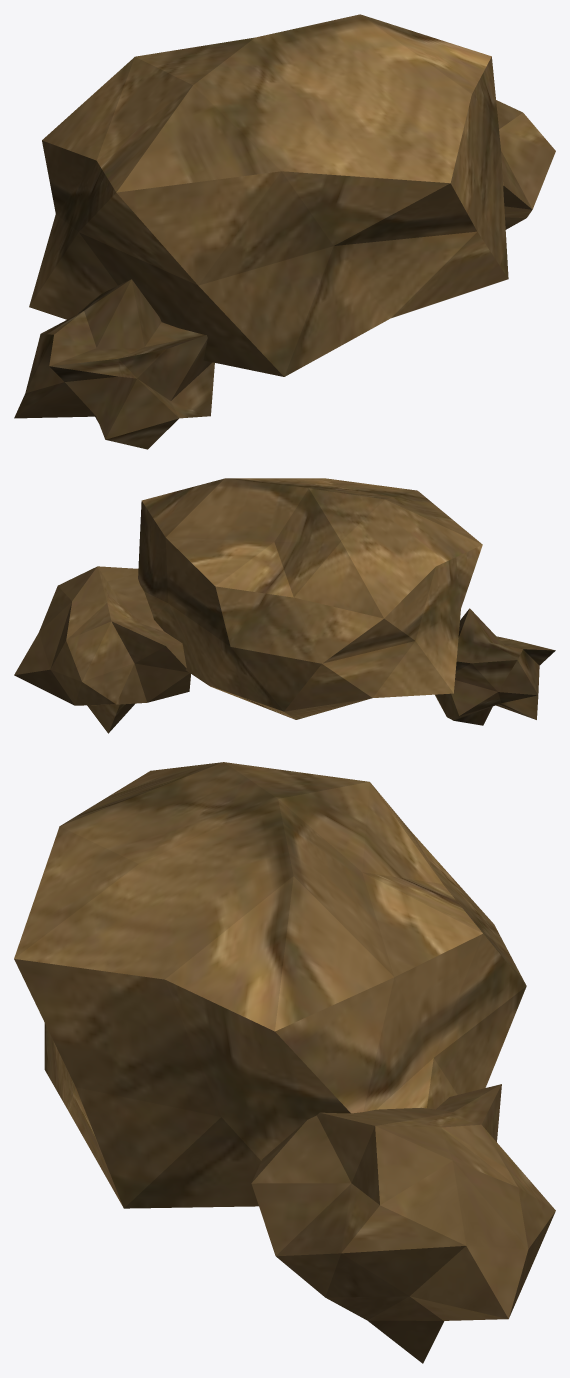
Rendered from amberrock.glb.
3 renders of one model, top to bottom at view 1: azimuth 30°, elevation 25°; view 2: azimuth 150°, elevation 25°; view 3: azimuth 270°, elevation 25°, orthographic. The views are drawn at different scales.
Parts seen in each view (by area): view 1: model; view 2: model; view 3: model.
Boxes of the visible parts, left/top/right/bottom form: model: left=14, top=14, right=555, bottom=449; model: left=14, top=478, right=555, bottom=733; model: left=14, top=762, right=555, bottom=1363.
Size of the model in its own units: 0.3891 by 0.2169 by 0.2461.
3 materials, 3 textured.
